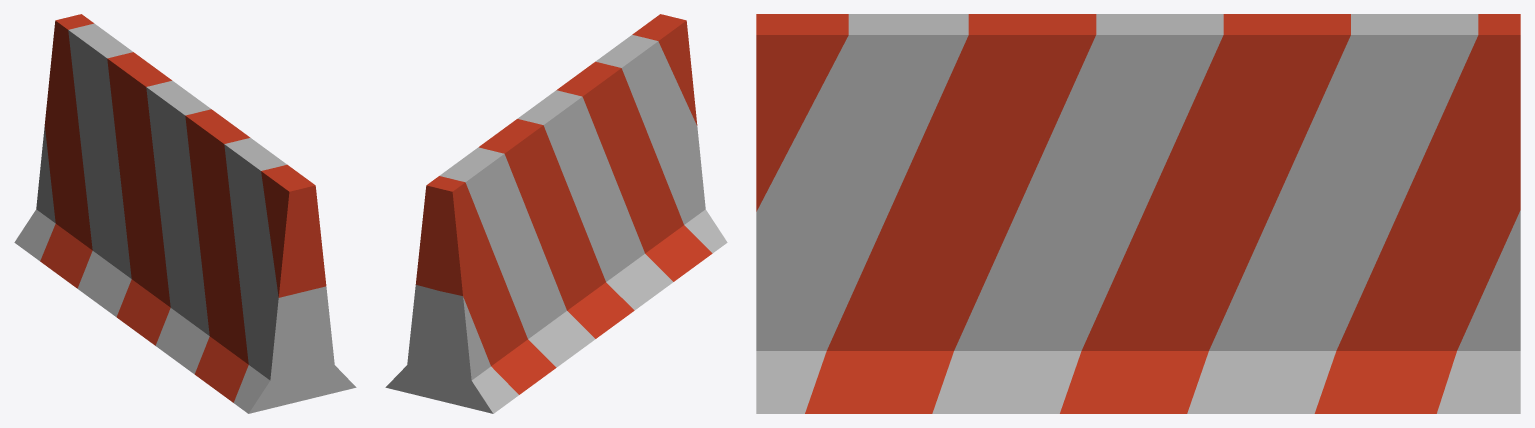
Rendered from RoadPart_04.glb.
3 renders of one model, left to right at view 1: azimuth 30°, elevation 25°; view 2: azimuth 150°, elevation 25°; view 3: azimuth 270°, elevation 25°, orthographic. The views are drawn at different scales.
Visible parts, largest first — view 1: RoadPart_04; view 2: RoadPart_04; view 3: RoadPart_04.
Boxes of the visible parts, x1,y1,x2,y2 form: RoadPart_04: (14, 14, 356, 413); RoadPart_04: (385, 14, 727, 413); RoadPart_04: (756, 14, 1520, 413).
Bounding box in the file's own units: 0.4 × 0.75 × 1.5.
1 material, 1 textured.
